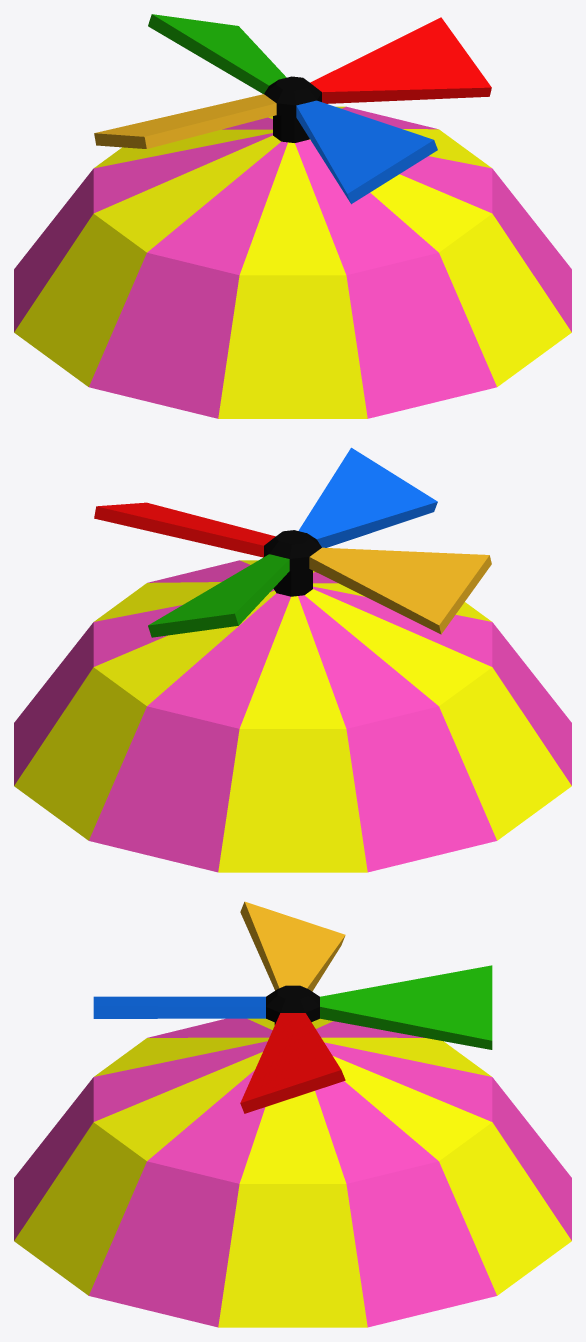
Rendered from Propeller.fbx.
3 views of the same model, one above another, from view 1: azimuth 30°, elevation 25°; view 2: azimuth 150°, elevation 25°; view 3: azimuth 270°, elevation 25° (orthographic).
Parts seen in each view (by area): view 1: Propeller; view 2: Propeller; view 3: Propeller.
Part boxes in pixels (x1,y1,x2,y2): Propeller: (14,14,571,418); Propeller: (14,447,571,872); Propeller: (14,901,571,1327).
Bounding box in the file's own units: 57.96 × 25.68 × 57.96.
